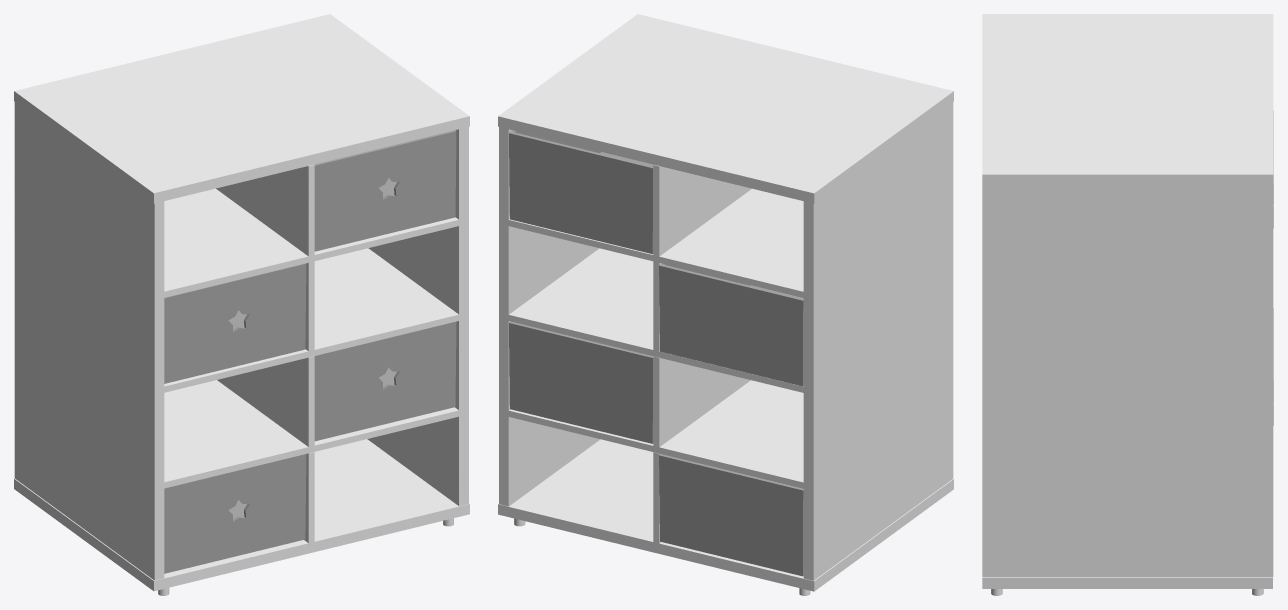
Rendered from Side table.fbx.
The picture shows the model from 3 angles, left to right: view 1: azimuth 30°, elevation 25°; view 2: azimuth 150°, elevation 25°; view 3: azimuth 270°, elevation 25°; orthographic projection. The views are drawn at different scales.
Parts seen in each view (by area): view 1: Side table; view 2: Side table; view 3: Side table.
Part boxes in pixels (<box>): Side table: <box>14,14,469,595</box>; Side table: <box>498,14,953,595</box>; Side table: <box>982,14,1273,595</box>.
Size of the model in its own units: 63.99 by 79.23 by 49.09.
1 material, 1 textured.
